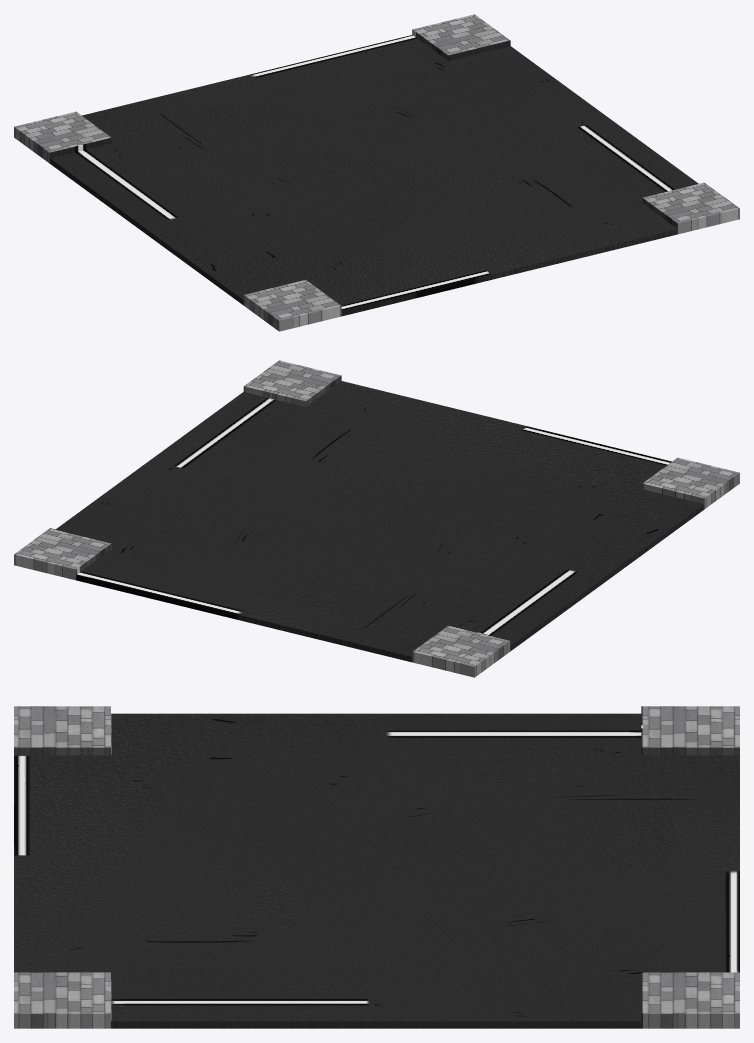
The model's file is intersection piece done.fbx.
3 renders of one model, top to bottom at view 1: azimuth 30°, elevation 25°; view 2: azimuth 150°, elevation 25°; view 3: azimuth 270°, elevation 25°, orthographic. The views are drawn at different scales.
Visible parts, largest first — view 1: polySurface1; view 2: polySurface1; view 3: polySurface1.
Part boxes in pixels (x1,y1,x2,y2): polySurface1: (14, 14, 739, 331); polySurface1: (14, 360, 739, 677); polySurface1: (14, 706, 739, 1028).
Size of the model in its own units: 8.91 by 0.2 by 8.88.
